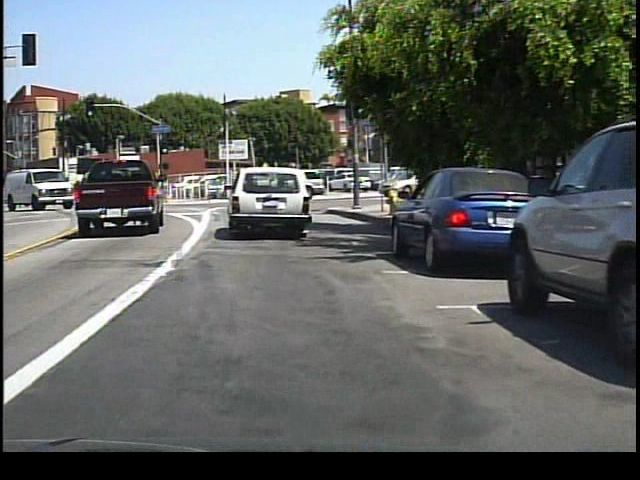person: (349, 167, 365, 200)
